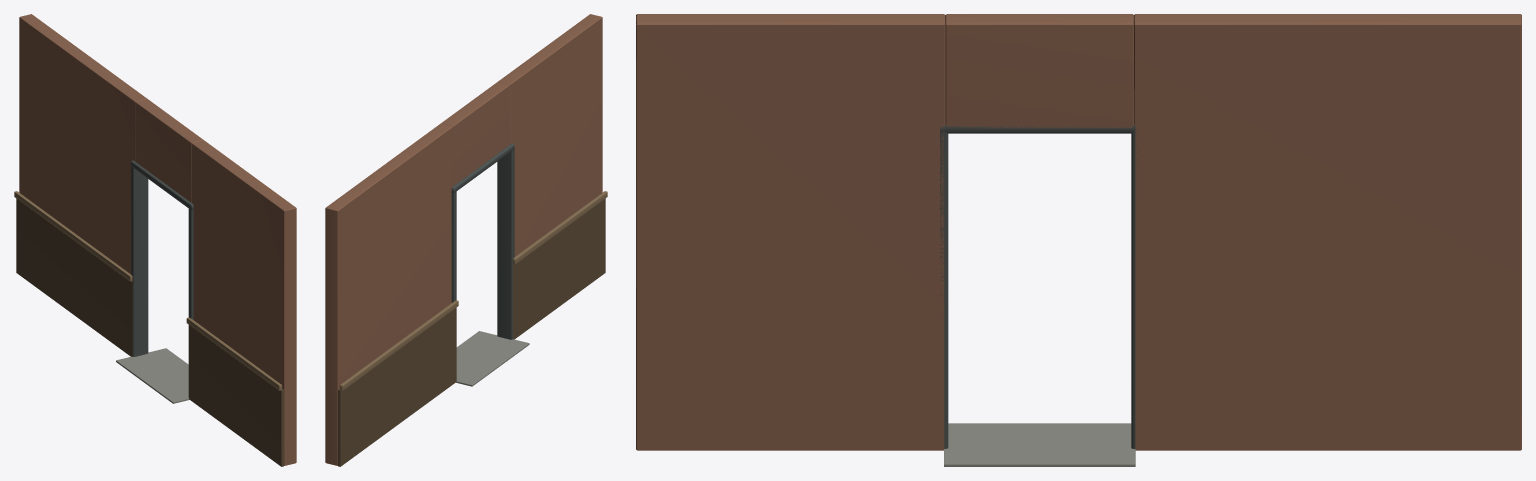
File: Pawnshop_LeftPartition62.fbx
3 renders of one model, left to right at view 1: azimuth 30°, elevation 25°; view 2: azimuth 150°, elevation 25°; view 3: azimuth 270°, elevation 25°, orthographic. The views are drawn at different scales.
Parts seen in each view (by area): view 1: Pawnshop_LeftPartition62; view 2: Pawnshop_LeftPartition62; view 3: Pawnshop_LeftPartition62.
Boxes of the visible parts, x1,y1,x2,y2 form: Pawnshop_LeftPartition62: (14,14,296,466); Pawnshop_LeftPartition62: (325,14,607,466); Pawnshop_LeftPartition62: (636,14,1521,466).
Bounding box in the file's own units: 62 × 301 × 564.
